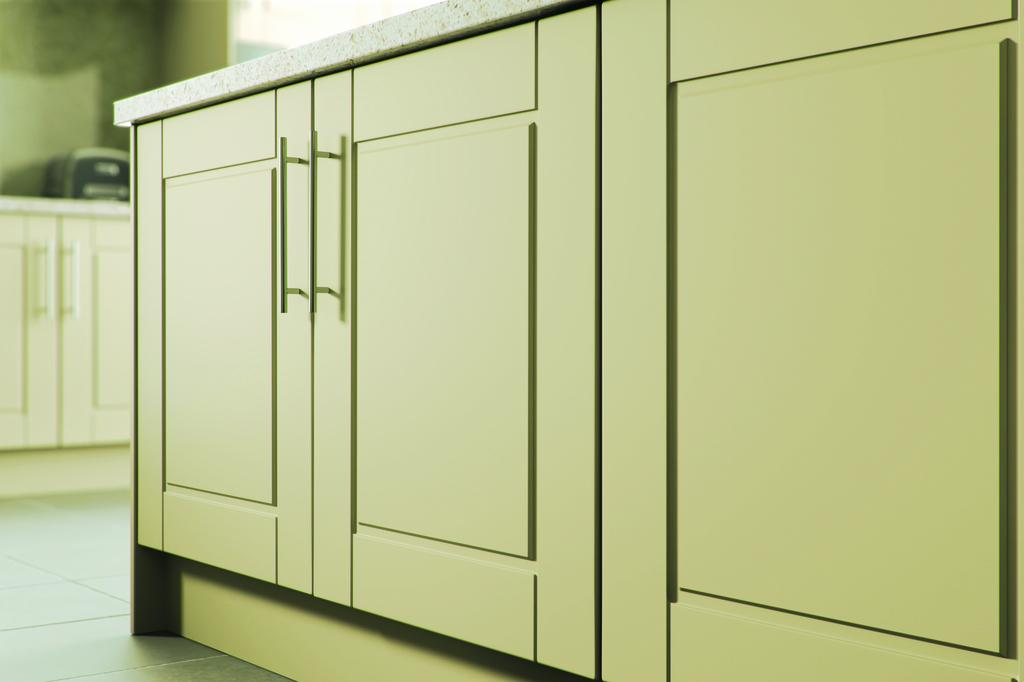cabinet_door: (636, 33, 1018, 681), (314, 90, 588, 634), (136, 124, 310, 566), (67, 236, 141, 420), (6, 215, 64, 444)
handle: (256, 127, 298, 313), (301, 134, 340, 320), (30, 240, 50, 322), (61, 238, 81, 314)
